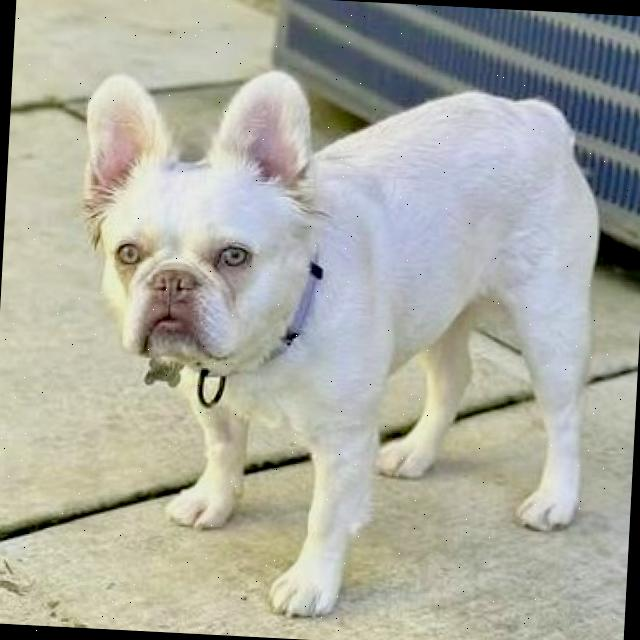french_bulldog_dog: (56, 57, 338, 400)
